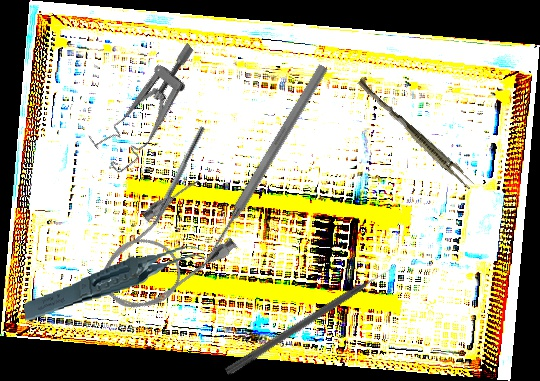Cannula: (81, 172, 246, 329)
Chopper: (144, 122, 206, 229)
Pusher: (199, 62, 330, 267), (224, 263, 397, 378)
Speculum: (80, 41, 225, 176)
Tissue Forceps: (19, 244, 211, 322), (353, 77, 477, 191)
